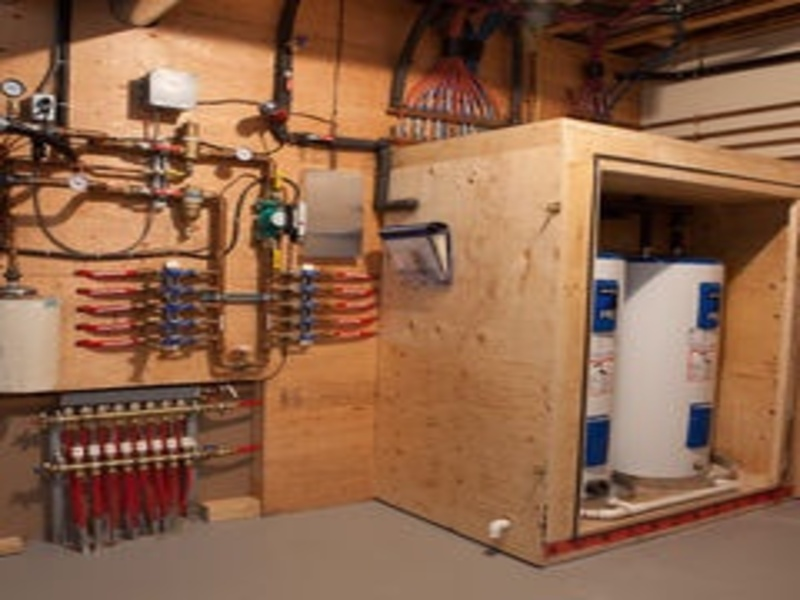valve: (270, 162, 290, 193), (269, 243, 279, 274)
